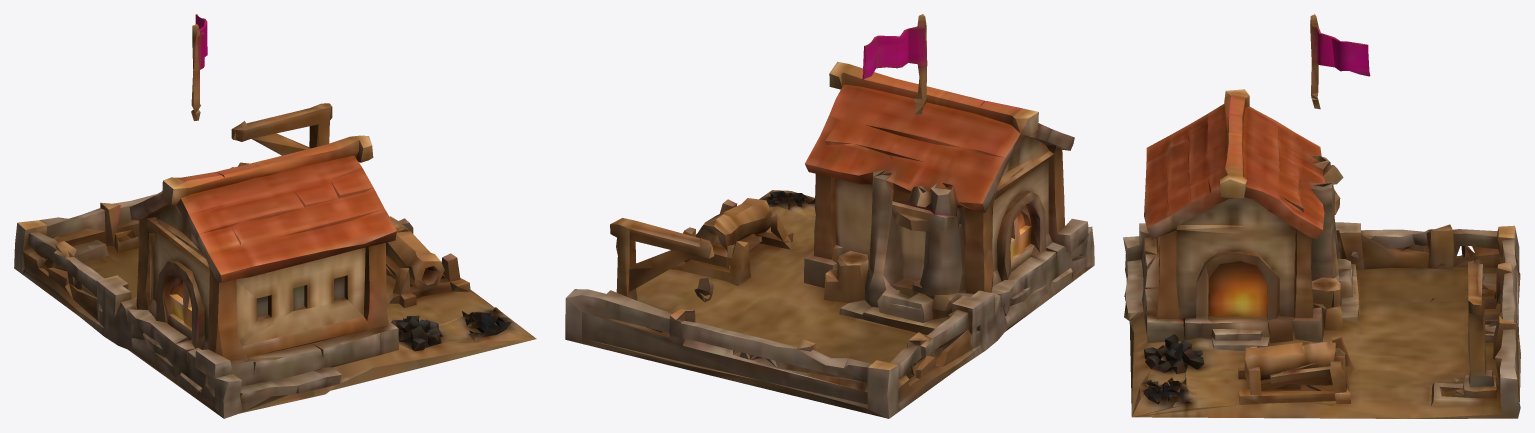
Rendered from foundry.lod2.glb.
3 views of the same model, side by side, from view 1: azimuth 30°, elevation 25°; view 2: azimuth 150°, elevation 25°; view 3: azimuth 270°, elevation 25° (orthographic). The views are drawn at different scales.
Parts seen in each view (by area): view 1: foundry.lod2_uv; view 2: foundry.lod2_uv; view 3: foundry.lod2_uv.
Boxes of the visible parts, x1=… form: foundry.lod2_uv: x1=14, y1=14, x2=536, y2=418; foundry.lod2_uv: x1=565, y1=14, x2=1094, y2=418; foundry.lod2_uv: x1=1123, y1=14, x2=1520, y2=418.
Bounding box in the file's own units: 1.7 × 1.52 × 1.9.
Materials: 1 (1 with a texture image).
